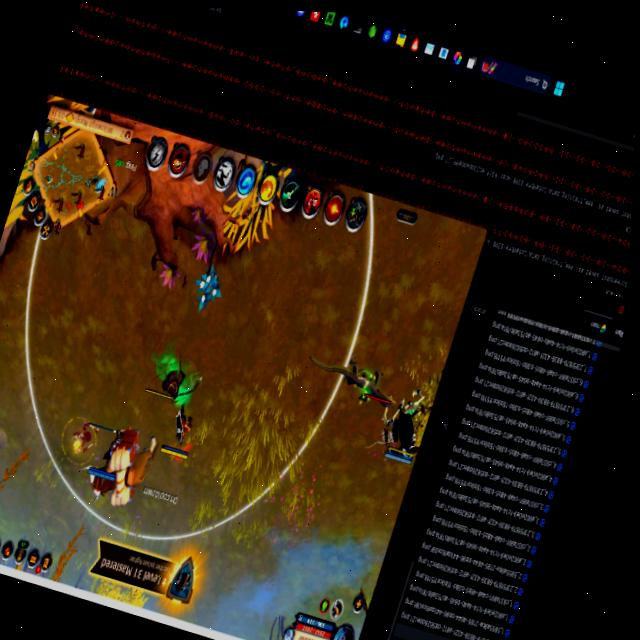hide: (179, 252, 234, 322)
ore: (292, 334, 413, 421)
red: (155, 396, 206, 469)
